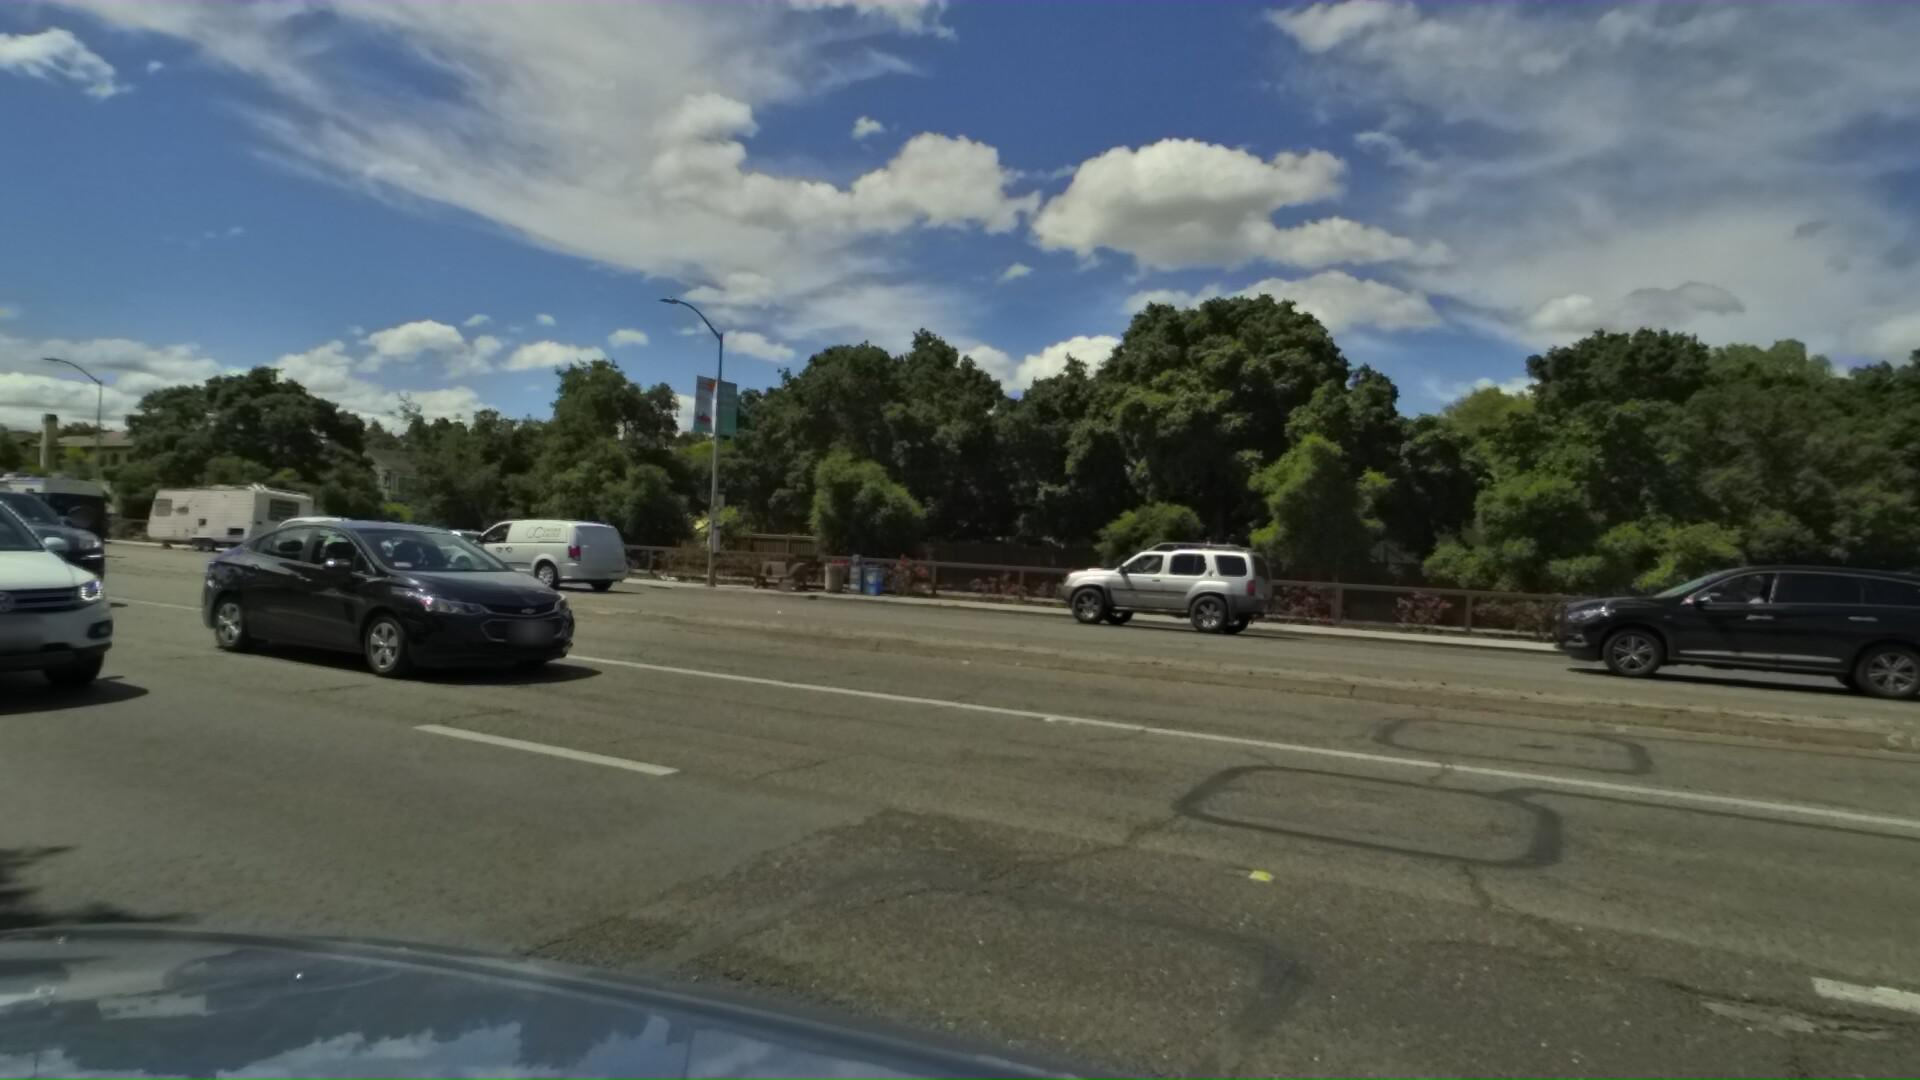bus: (140, 473, 327, 562), (0, 462, 120, 545)
car: (175, 508, 607, 691), (1497, 542, 1909, 704), (0, 454, 169, 737), (1009, 535, 1247, 640), (425, 502, 632, 593), (0, 471, 127, 607), (210, 512, 398, 589), (0, 488, 121, 556), (348, 522, 491, 578), (363, 524, 473, 574)
